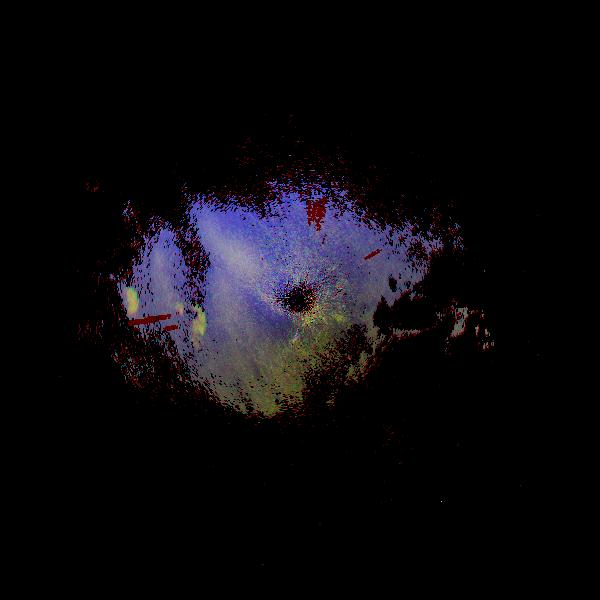roost: (56, 274, 176, 394), (131, 294, 221, 384)
